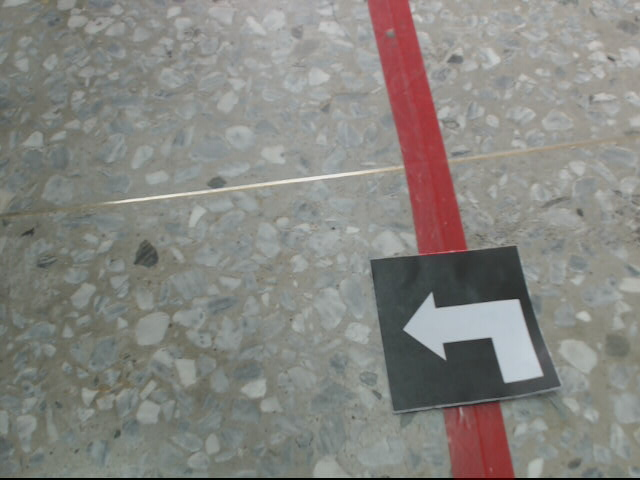left: (368, 243, 561, 413)
